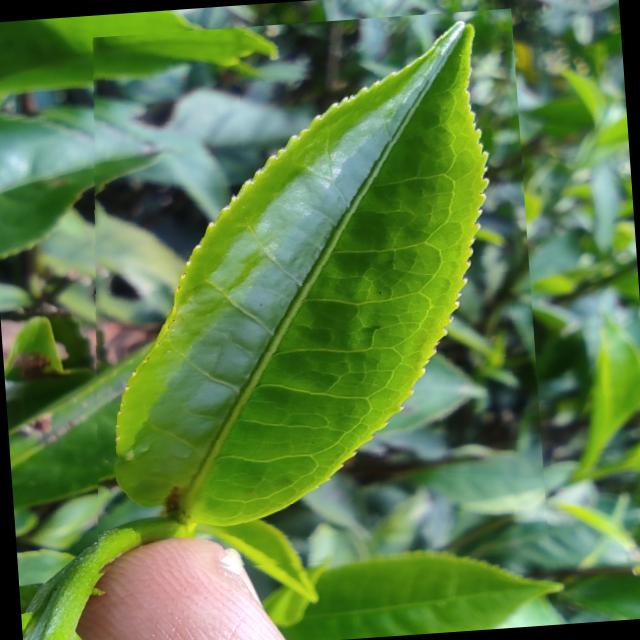Category C(4-7 days): (60, 8, 548, 580)
